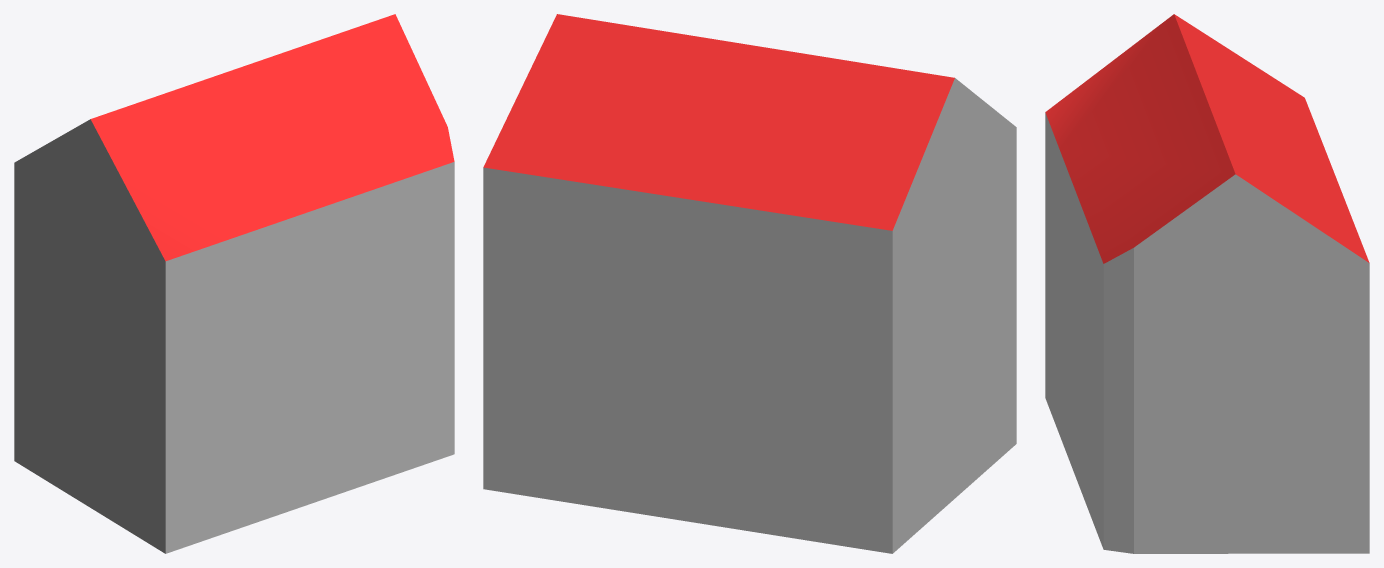
The model's file is DEBE3D04YY50000652.dae.
3 views of the same model, side by side, from view 1: azimuth 30°, elevation 25°; view 2: azimuth 150°, elevation 25°; view 3: azimuth 270°, elevation 25° (orthographic). The views are drawn at different scales.
Bounding box in the file's own units: 16.26 × 13.53 × 17.47.
